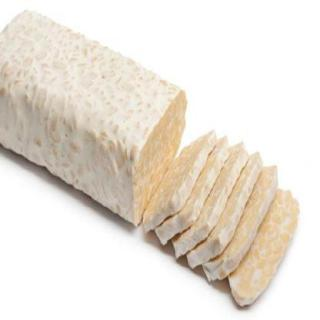Tempe: (1, 8, 302, 312)
